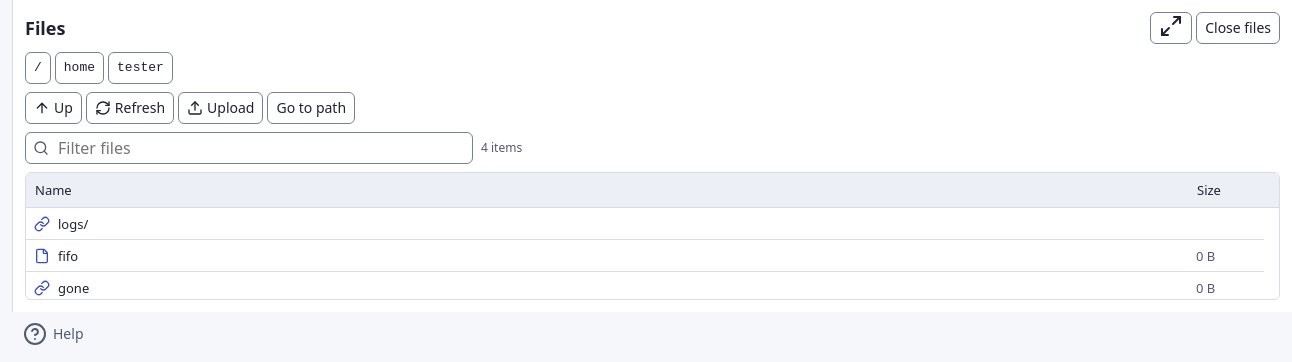
Scenario: browsing › labels links and opens folders through them
The width and height of the screenshot is (1292, 362).
Expected: the text "gone" is shown, [58, 278, 89, 298]
Expected: the text "fifo" is shown, [58, 246, 78, 266]
Double-click the text "logs/" at (73, 224), box [58, 214, 88, 234]
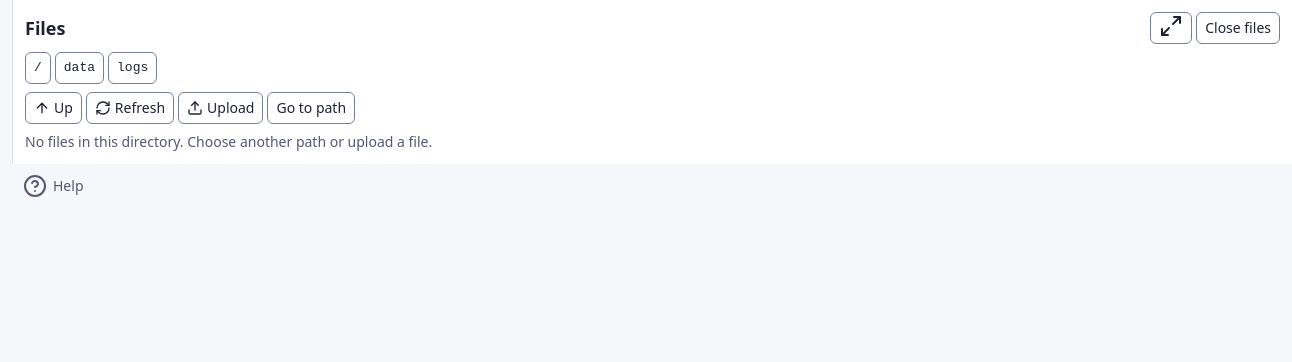
Expected: the navigation bar named "Current folder" shows "logs", [108, 52, 157, 84]
Click the button "Go to path". click: (311, 108)
box: [267, 92, 355, 124]
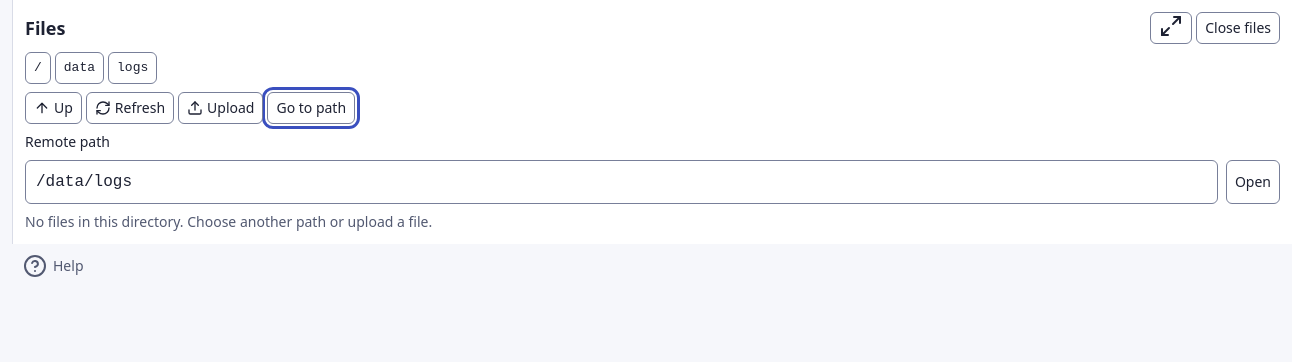
Expected: the field labelled "Remote path" holds "/data/logs", [25, 160, 1218, 204]
